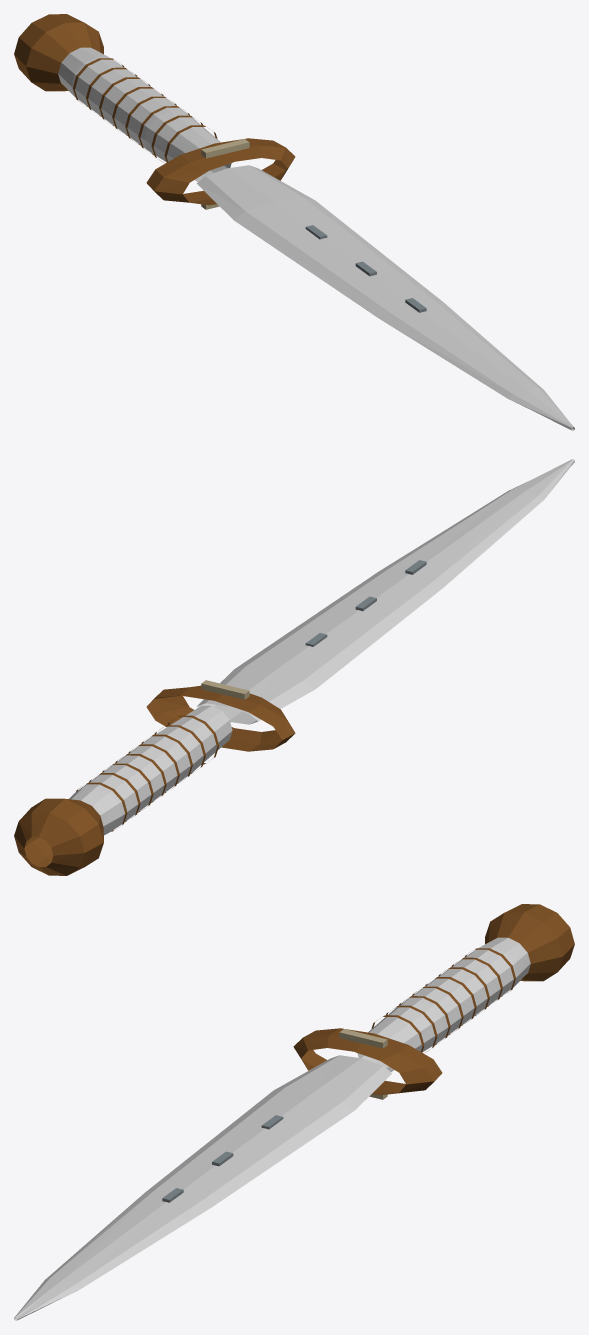
Rendered from RitualDagger_LOD0.obj.
3 views of the same model, one above another, from view 1: azimuth 30°, elevation 25°; view 2: azimuth 150°, elevation 25°; view 3: azimuth 330°, elevation 25° (orthographic).
Parts seen in each view (by area): view 1: iron_blade, leather_grip, bronze_pommel, bronze_guard; view 2: iron_blade, leather_grip, bronze_pommel, bronze_guard; view 3: iron_blade, leather_grip, bronze_pommel, bronze_guard.
Boxes of the visible parts, left/top/right/bottom form: iron_blade: left=197, top=165, right=574, bottom=430; leather_grip: left=58, top=47, right=231, bottom=181; bronze_pommel: left=14, top=14, right=103, bottom=91; bronze_guard: left=146, top=138, right=295, bottom=205; iron_blade: left=197, top=459, right=574, bottom=724; leather_grip: left=69, top=705, right=232, bottom=835; bronze_pommel: left=14, top=798, right=103, bottom=875; bronze_guard: left=146, top=685, right=295, bottom=751; iron_blade: left=14, top=1055, right=391, bottom=1320; leather_grip: left=357, top=937, right=530, bottom=1071; bronze_pommel: left=485, top=904, right=574, bottom=981; bronze_guard: left=293, top=1028, right=442, bottom=1095.
Size of the model in its own units: 0.156 by 0.072 by 1.02.
